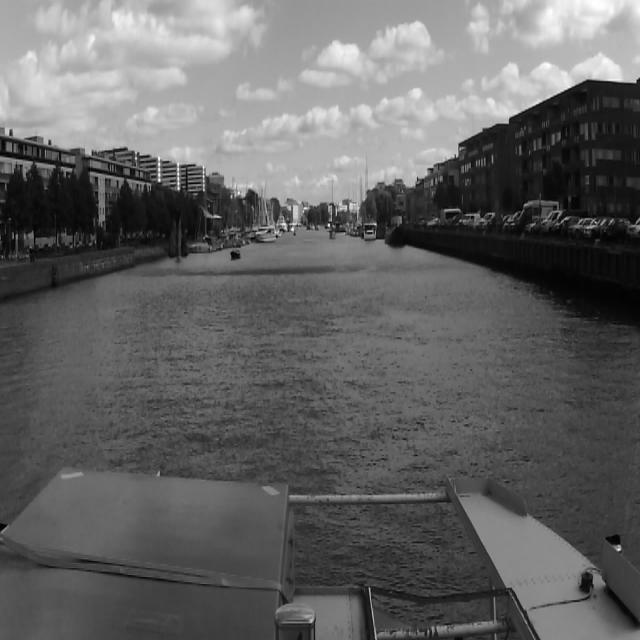ship: (382, 202, 404, 250), (189, 238, 212, 252), (256, 228, 276, 242), (365, 222, 377, 240), (229, 248, 241, 261)
